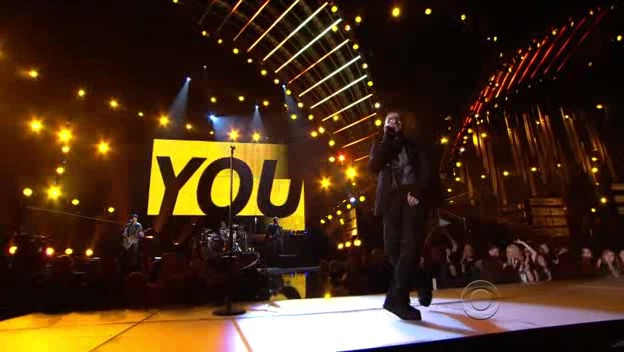person: (365, 108, 432, 219), (362, 108, 429, 219), (368, 108, 435, 219), (365, 105, 432, 216), (365, 111, 432, 222)
target_negative: (270, 8, 466, 202), (348, 187, 598, 328), (447, 113, 615, 285), (370, 261, 578, 290), (220, 242, 254, 285), (475, 287, 480, 352)
